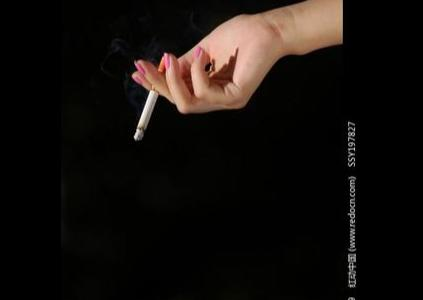Cigarette: (133, 53, 171, 140)
